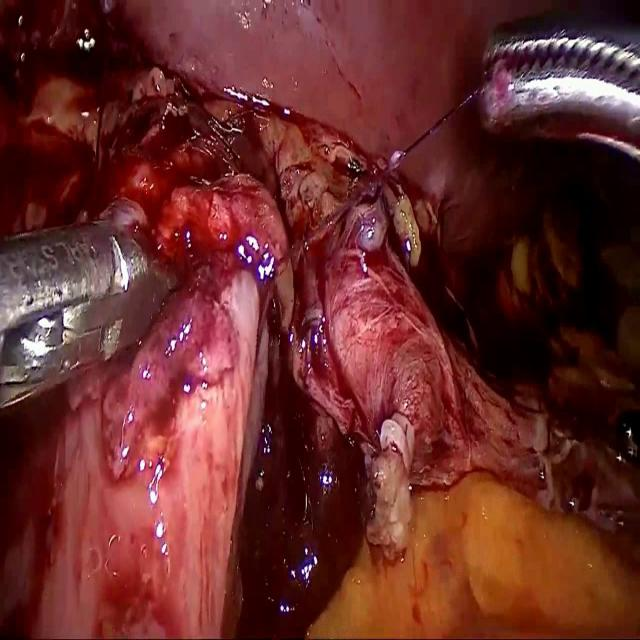surgical-tool: (0, 220, 183, 416), (476, 16, 640, 167)
